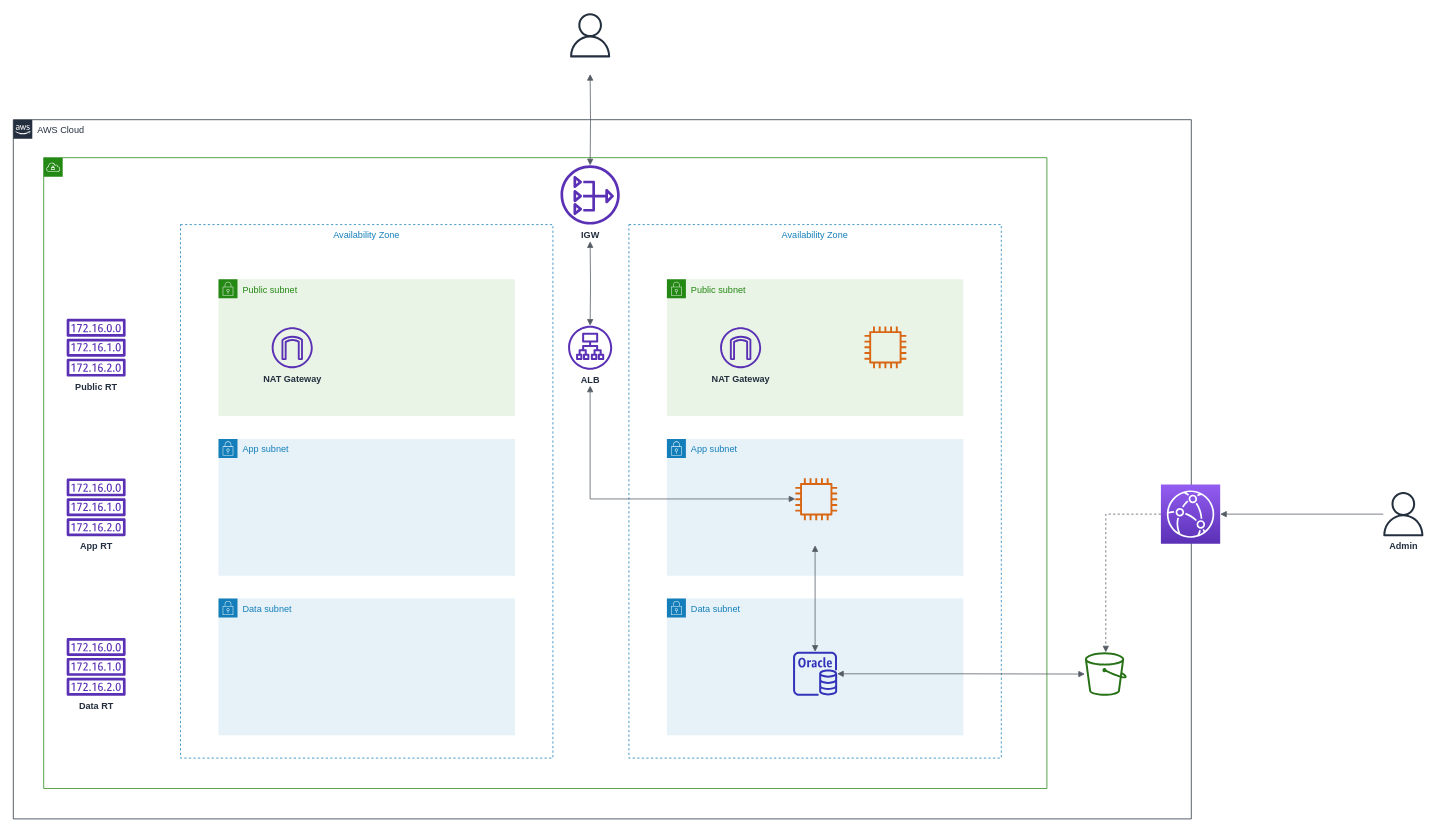
The diagram is 1439 pixels wide and 832 high, and some of its shapes have lost their labels. Here are the shapes that lost their labels. From the top down, the box of each, then its label:
(568, 13, 612, 57): User
(864, 326, 906, 368): Amazon EC2 Bastion
(43, 157, 1047, 788): VPC
(795, 478, 837, 520): Amazon EC2 App
(1160, 484, 1220, 544): Amazon CloudFront
(793, 651, 837, 695): Amazon RDS
(1085, 652, 1126, 695): Amazon S3 Bucket
